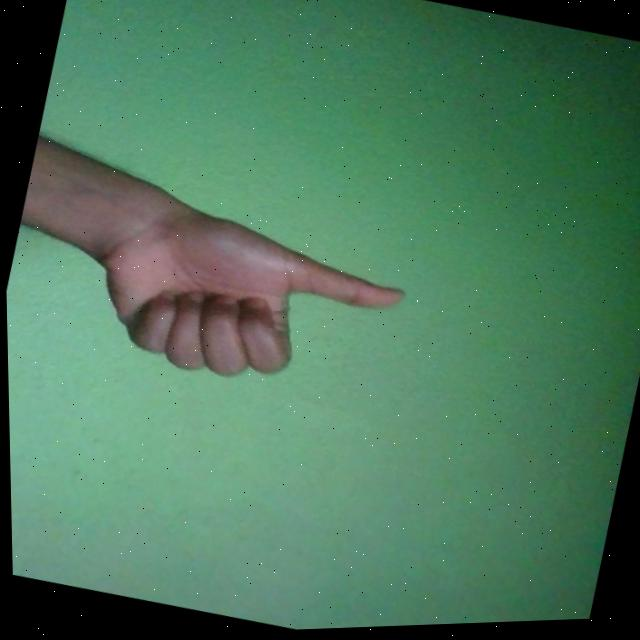Good Job: (66, 186, 415, 421)
